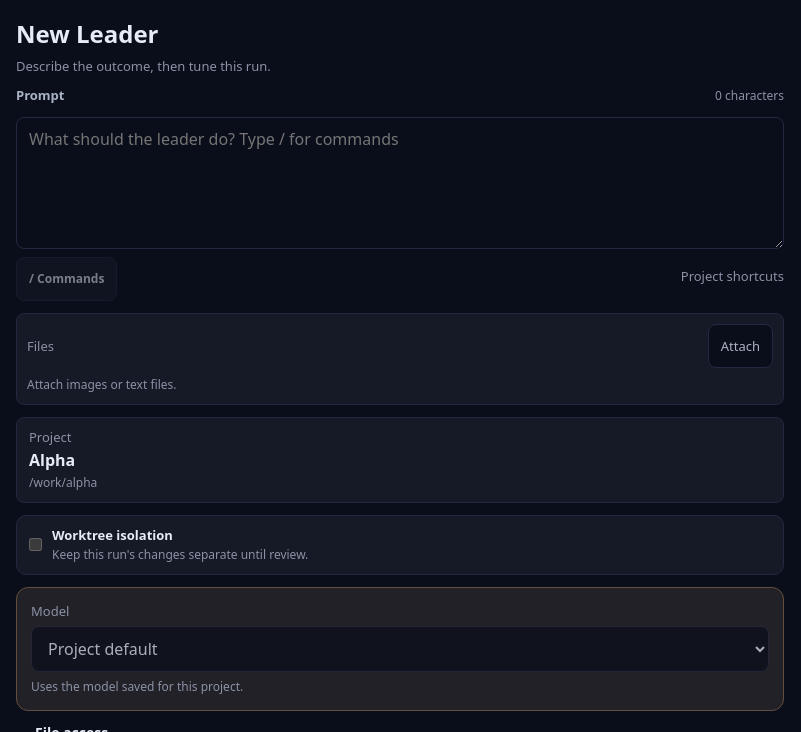
LaunchScreen › disables canonical launch immediately and ignores duplicate submissions
Type "Launch once" into the text box labelled "Prompt" at (400, 182), box [16,116,784,248]
(page scrolled)
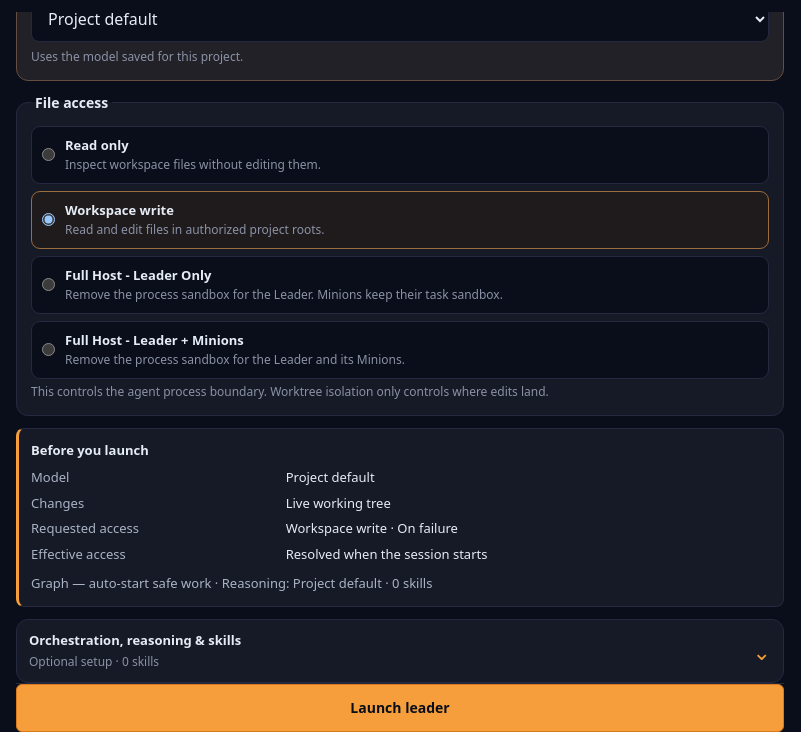
Expected: the button "Launch leader" is enabled
Click the button "Launch leader" at (400, 708), box [16,684,784,731]
(page scrolled)
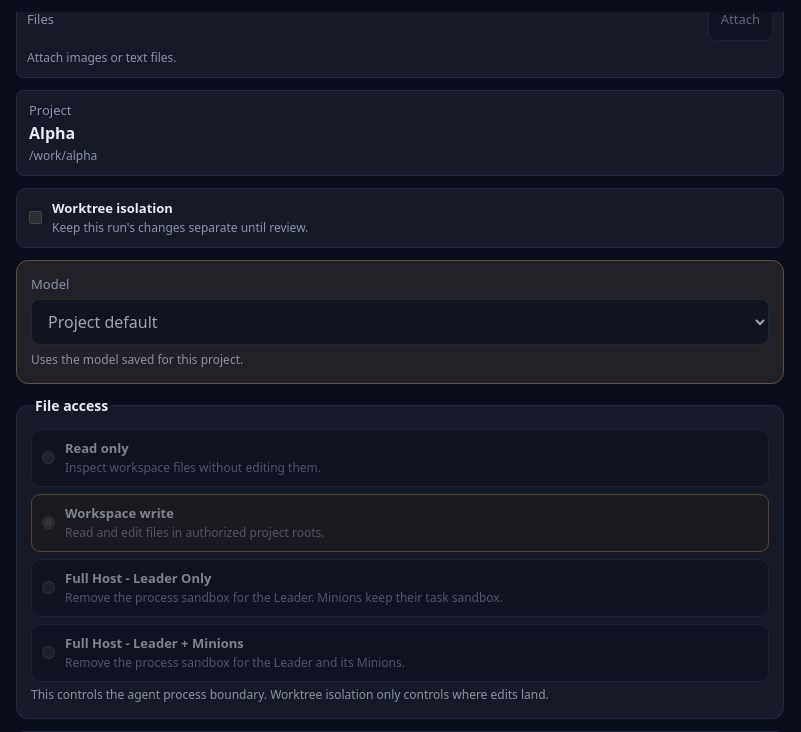
Submit the form named "Launch leader"
(page scrolled)
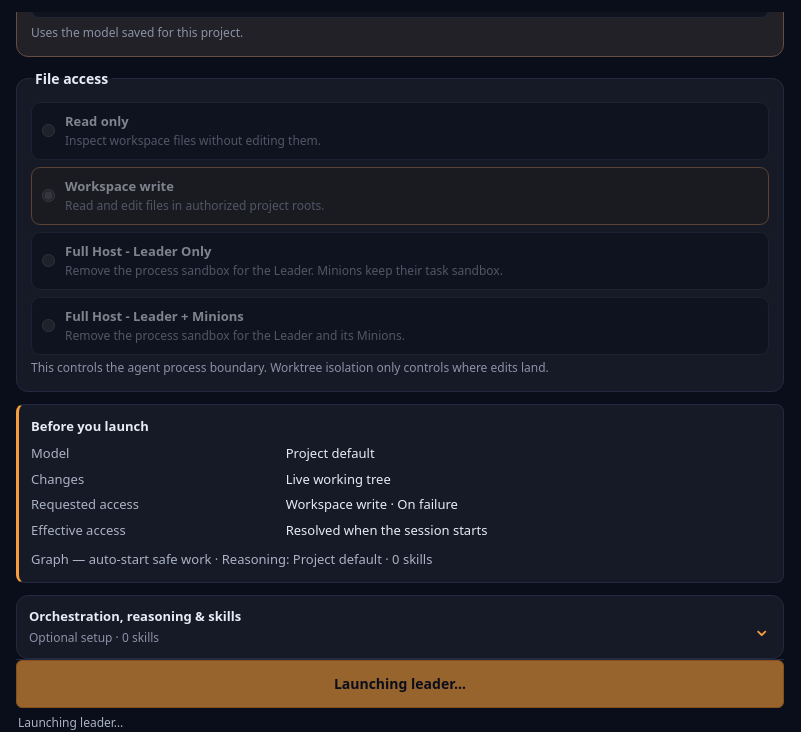
Expected: the button named "Launch leader" is disabled, [16,660,784,708]
Expected: the button named "Launch leader" reads "Launching leader…", [16,660,784,708]
